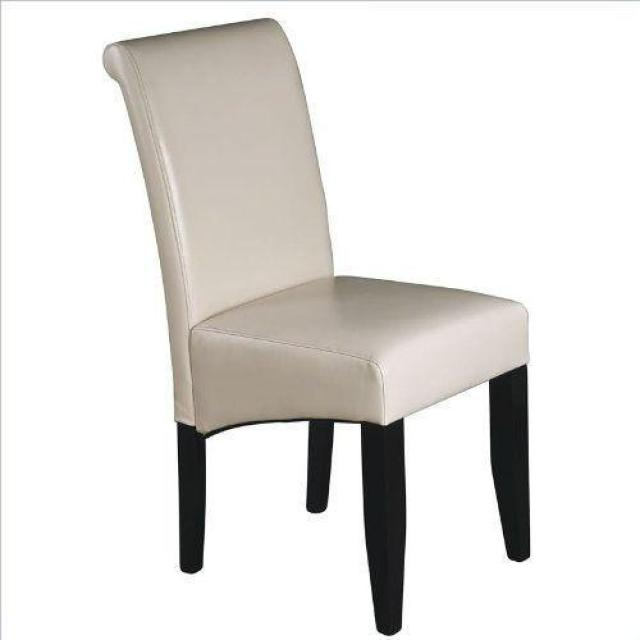chair: (101, 18, 531, 636)
